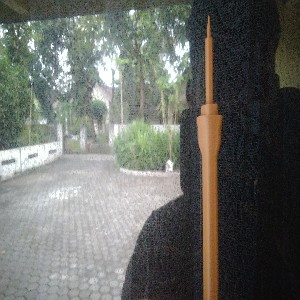solder: (197, 13, 224, 300)
